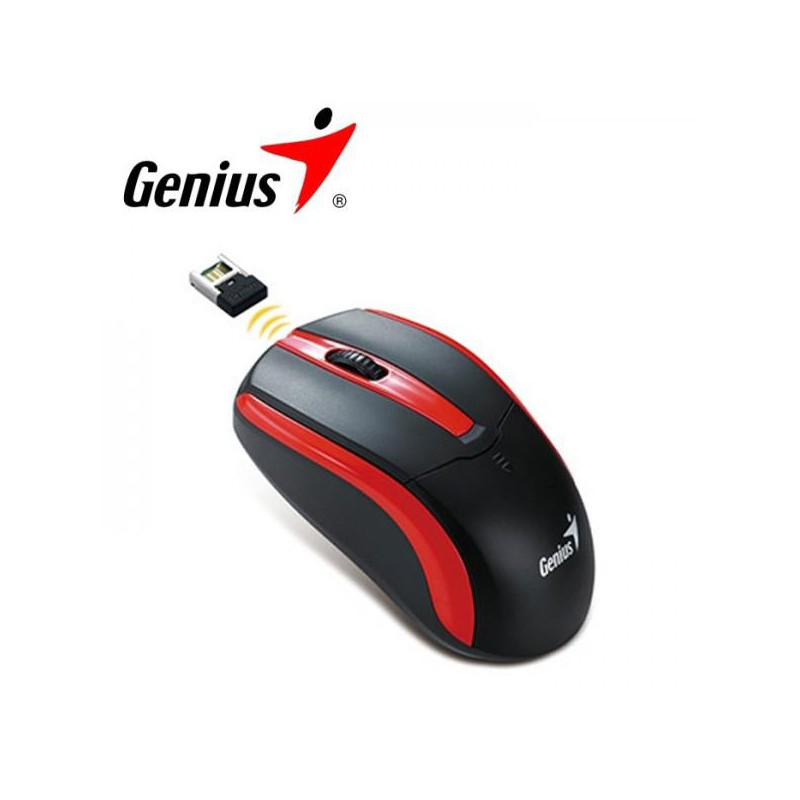Mouse: (221, 305, 605, 679)
